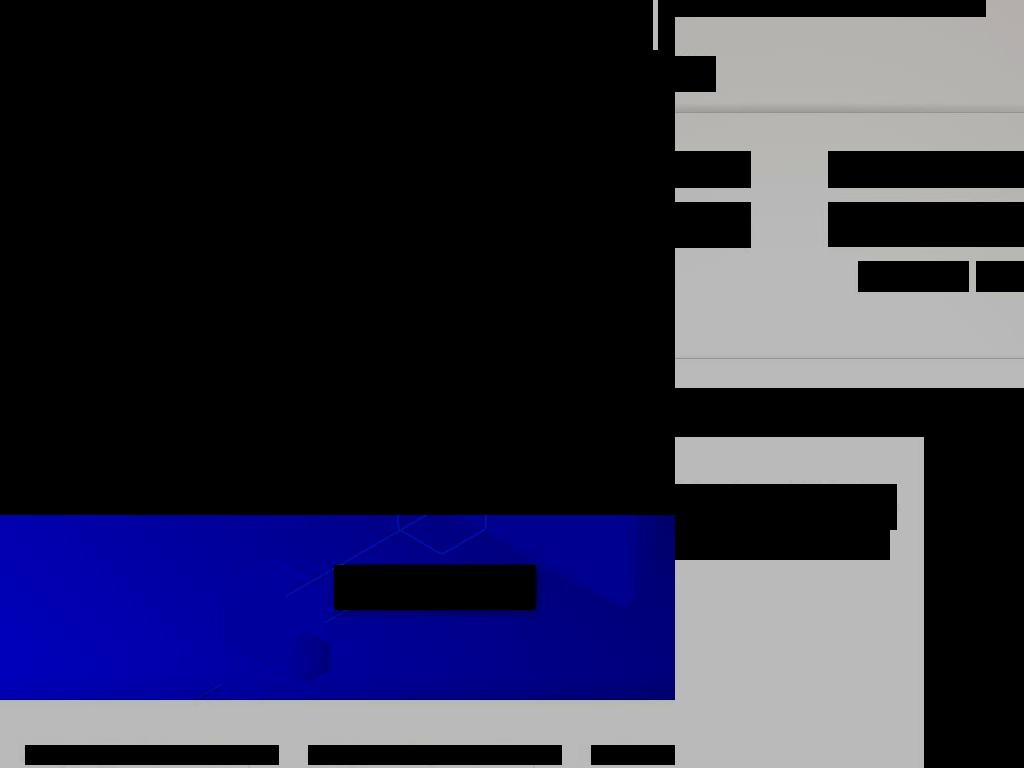button: (0, 323, 465, 436), (334, 565, 536, 610), (828, 202, 1024, 247), (502, 0, 642, 50), (544, 0, 653, 50), (119, 0, 200, 50), (264, 0, 337, 50), (858, 261, 969, 292), (200, 0, 264, 50), (0, 0, 63, 50), (483, 0, 544, 50), (63, 0, 119, 50), (431, 0, 483, 50), (337, 0, 388, 50), (457, 0, 502, 50), (388, 0, 431, 50), (976, 261, 1024, 292), (675, 56, 716, 92)
heading: (0, 329, 460, 429), (828, 151, 1024, 188), (25, 745, 279, 765), (308, 745, 562, 765), (591, 745, 675, 765)
iframe: (924, 437, 1024, 768)
image: (0, 52, 675, 437), (474, 10, 486, 26)
link: (0, 377, 608, 417), (204, 377, 315, 393), (658, 0, 675, 50)
text: (0, 437, 675, 515), (0, 281, 653, 345), (0, 235, 658, 271), (675, 388, 1024, 437), (675, 484, 897, 530), (675, 515, 890, 560), (314, 377, 552, 393), (0, 377, 205, 393), (518, 2, 626, 18), (675, 56, 715, 92), (883, 267, 956, 286), (518, 22, 626, 34), (973, 212, 1024, 237), (127, 10, 192, 26), (272, 10, 329, 26), (552, 10, 605, 26), (3, 10, 55, 26), (208, 10, 256, 26), (491, 10, 536, 26), (71, 10, 111, 26), (439, 10, 475, 26), (345, 10, 380, 26), (396, 10, 423, 26), (1007, 267, 1024, 286)
